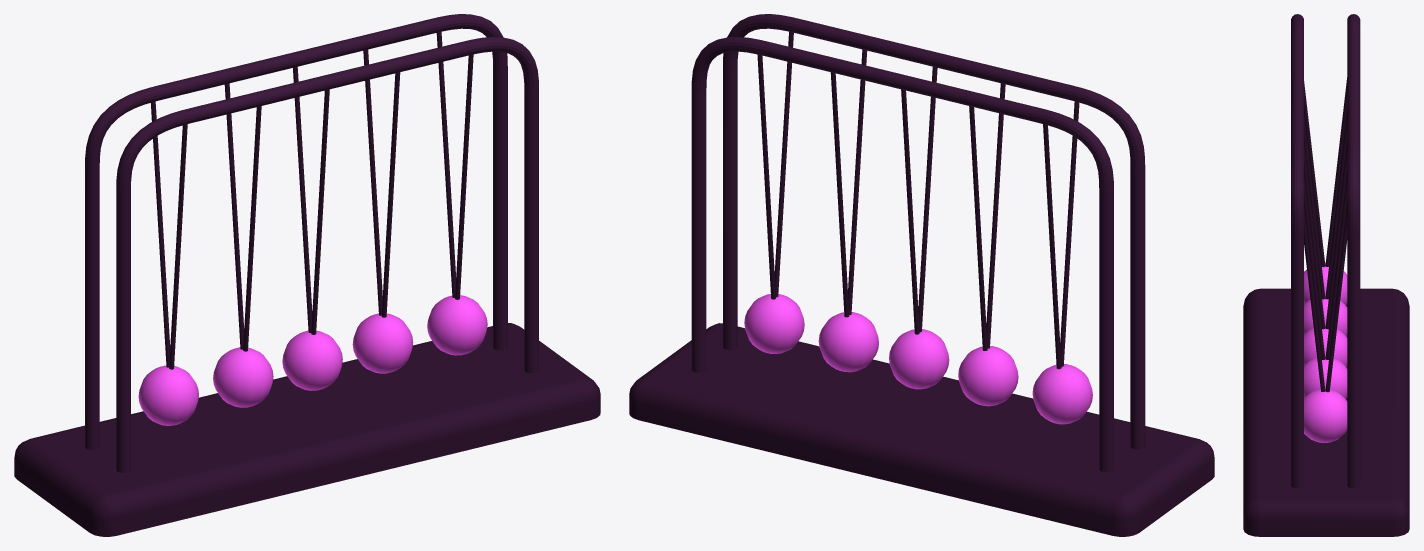
Rendered from Pandol.fbx.
The picture shows the model from 3 angles, left to right: view 1: azimuth 30°, elevation 25°; view 2: azimuth 150°, elevation 25°; view 3: azimuth 270°, elevation 25°; orthographic projection. The views are drawn at different scales.
Parts seen in each view (by area): view 1: polySurface5; view 2: polySurface5; view 3: polySurface5.
Part boxes in pixels (x1,y1,x2,y2): polySurface5: (14, 14, 600, 536); polySurface5: (629, 14, 1214, 536); polySurface5: (1243, 14, 1409, 536).
Bounding box in the file's own units: 0.237 × 0.169 × 0.0747.
